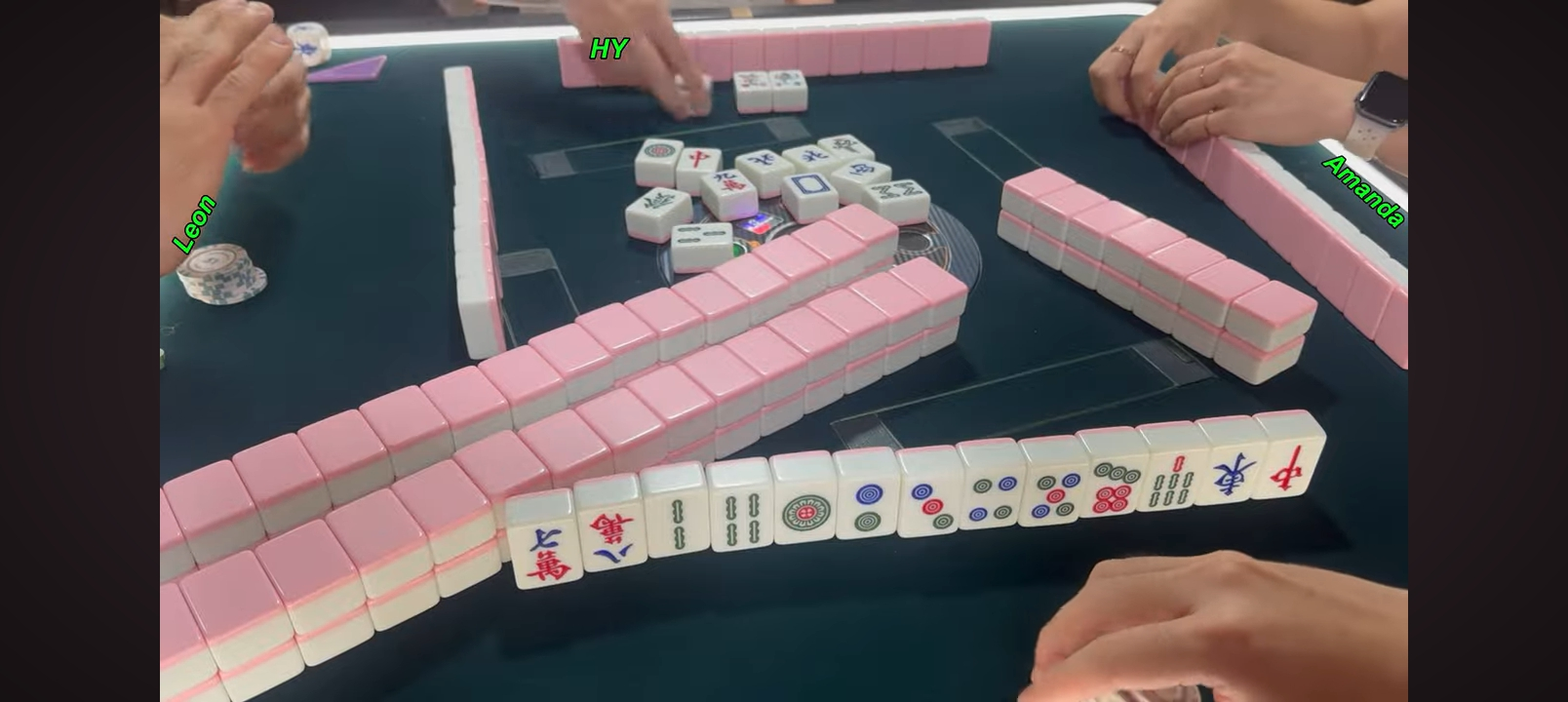TILE: (508, 525, 582, 587), (577, 505, 647, 569), (709, 486, 774, 551), (647, 488, 709, 556), (1025, 464, 1089, 525), (901, 474, 963, 535), (774, 484, 837, 544), (837, 477, 898, 538), (963, 469, 1024, 528), (1089, 457, 1148, 517), (1144, 452, 1205, 510), (1264, 439, 1325, 497), (1204, 447, 1267, 503)
